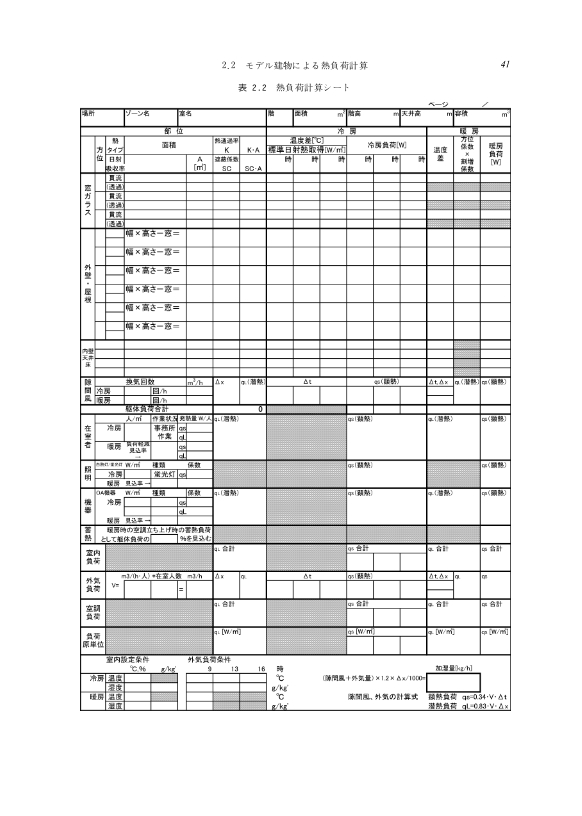table: (80, 106, 511, 711)
